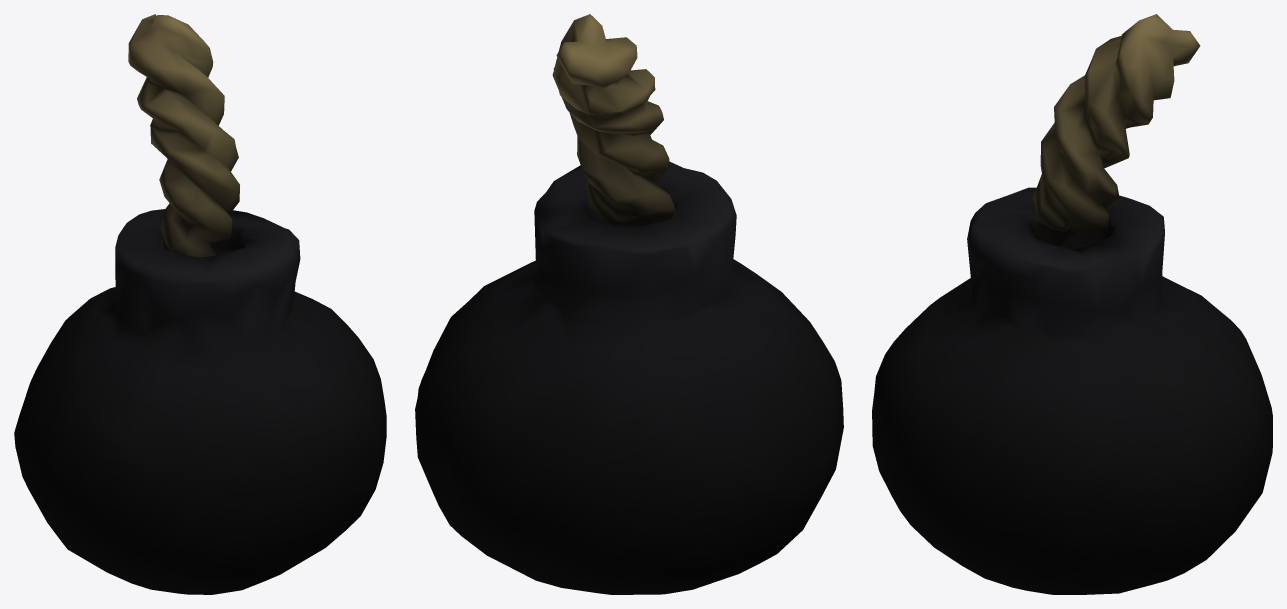
Rendered from Bomba.fbx.
The picture shows the model from 3 angles, left to right: view 1: azimuth 30°, elevation 25°; view 2: azimuth 150°, elevation 25°; view 3: azimuth 270°, elevation 25°; orthographic projection. The views are drawn at different scales.
Visible parts, largest first — view 1: Bomb; view 2: Bomb; view 3: Bomb.
Boxes of the visible parts, x1,y1,x2,y2 form: Bomb: (14,14,386,594); Bomb: (415,14,843,594); Bomb: (872,14,1272,594).
Size of the model in its own units: 1.07 by 1.64 by 1.07.
